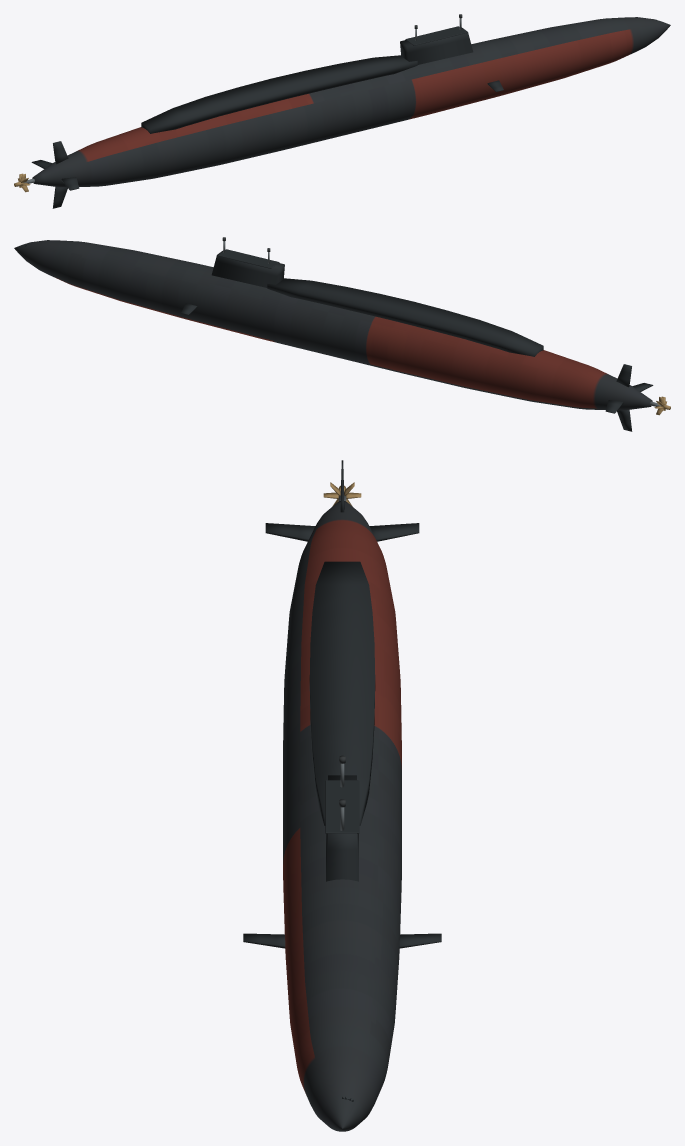
The model's file is US_SSBN_EthanAllen.glb.
The picture shows the model from 3 angles, top to bottom: view 1: azimuth 30°, elevation 25°; view 2: azimuth 150°, elevation 25°; view 3: azimuth 270°, elevation 25°; orthographic projection. The views are drawn at different scales.
Visible parts, largest first — view 1: US_SSBN_EthanAllen_LOD0; view 2: US_SSBN_EthanAllen_LOD0; view 3: US_SSBN_EthanAllen_LOD0.
Boxes of the visible parts, left/top/right/bottom form: US_SSBN_EthanAllen_LOD0: left=14, top=14, right=670, bottom=208; US_SSBN_EthanAllen_LOD0: left=14, top=237, right=670, bottom=431; US_SSBN_EthanAllen_LOD0: left=243, top=460, right=441, bottom=1131.
Size of the model in its own units: 129 by 17.68 by 16.88.
Materials: 6 (1 with a texture image).
